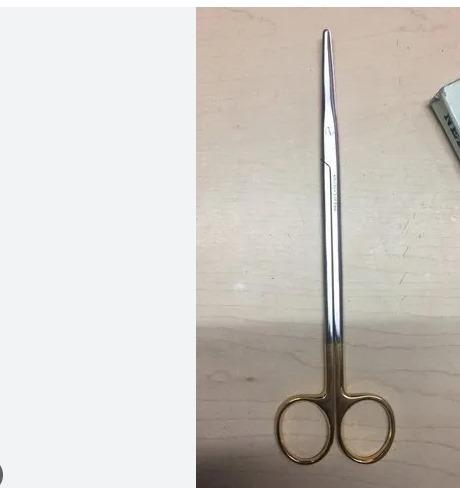Metzenbaum Sciccors: (264, 23, 402, 468)
